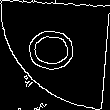O_E: (26, 31, 84, 79)
